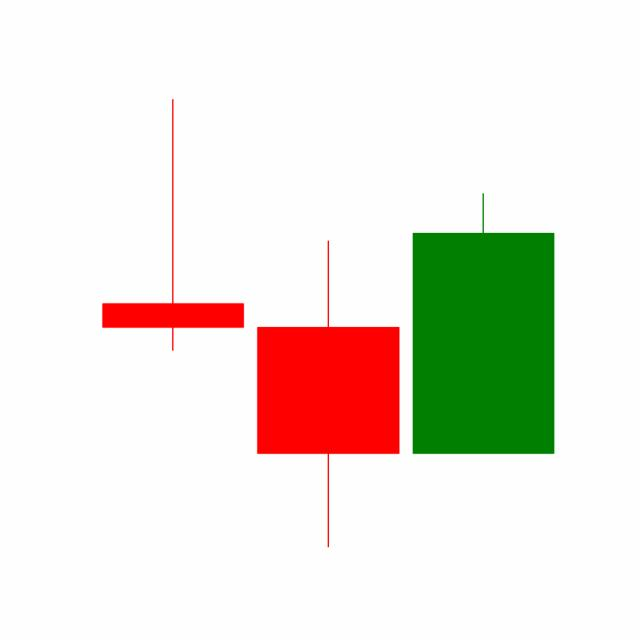Marubozu: (405, 190, 561, 456)
